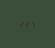seven: (29, 20, 33, 28)
two: (24, 19, 28, 28), (18, 19, 22, 27)
